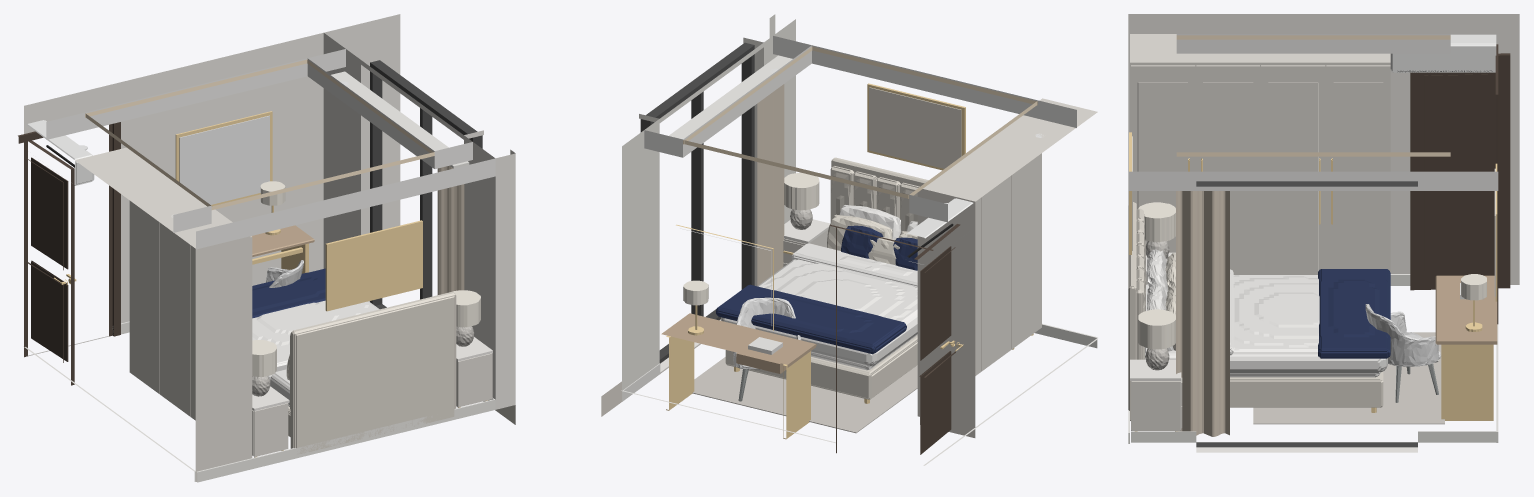
Rendered from ROOM2.glb.
The picture shows the model from 3 angles, left to right: view 1: azimuth 30°, elevation 25°; view 2: azimuth 150°, elevation 25°; view 3: azimuth 270°, elevation 25°; orthographic projection. The views are drawn at different scales.
Visible parts, largest first — view 1: WEB_ROOM2; view 2: WEB_ROOM2; view 3: WEB_ROOM2.
Boxes of the visible parts, box(x1,y1,x2,y2) form: WEB_ROOM2: box(18, 14, 515, 482); WEB_ROOM2: box(601, 14, 1097, 465); WEB_ROOM2: box(1128, 14, 1519, 452).
Size of the model in its own units: 3.98 by 2.7 by 3.27.
